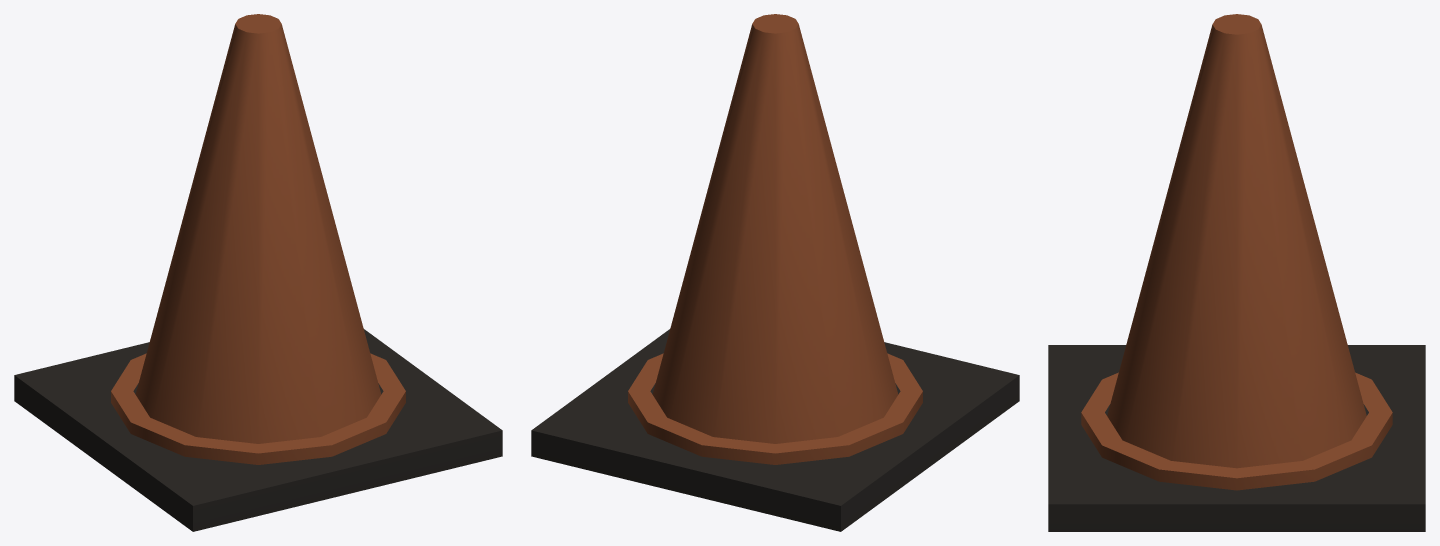
The model's file is sign.cone_slim.worn.glb.
3 views of the same model, side by side, from view 1: azimuth 30°, elevation 25°; view 2: azimuth 150°, elevation 25°; view 3: azimuth 270°, elevation 25° (orthographic). The views are drawn at different scales.
Parts seen in each view (by area): view 1: sign_cone_slim_worn; view 2: sign_cone_slim_worn; view 3: sign_cone_slim_worn.
Boxes of the visible parts, x1,y1,x2,y2 form: sign_cone_slim_worn: [14, 14, 502, 531]; sign_cone_slim_worn: [531, 14, 1019, 531]; sign_cone_slim_worn: [1048, 14, 1425, 531].
Size of what is drawn, in the model's own units: 0.56 by 0.7 by 0.56.
